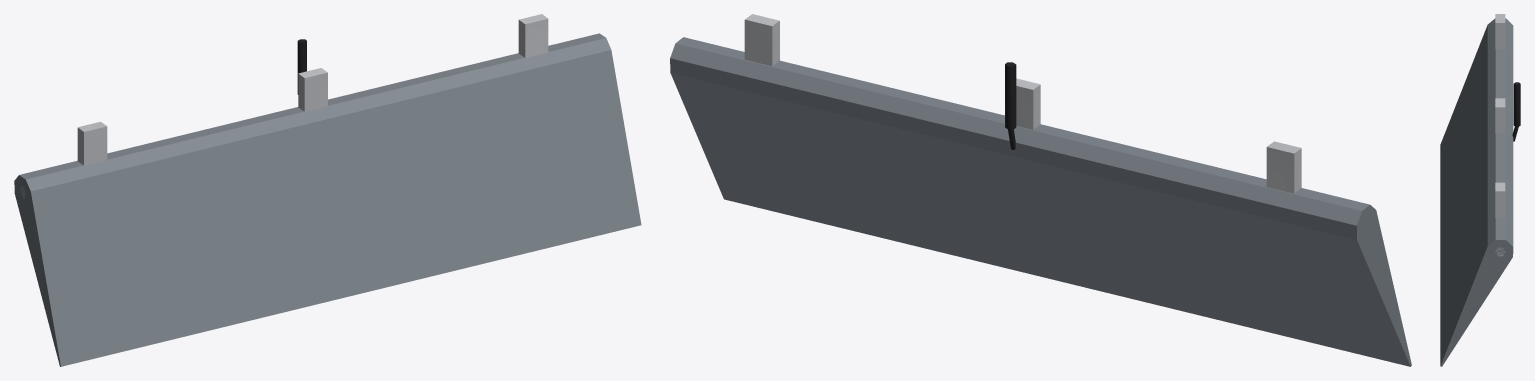
File: jet09_control_surface_elevon_s_defl_neg.glb
3 views of the same model, side by side, from view 1: azimuth 30°, elevation 25°; view 2: azimuth 150°, elevation 25°; view 3: azimuth 270°, elevation 25° (orthographic). The views are drawn at different scales.
Visible parts, largest first — view 1: surface, hinge_fittings; view 2: surface, hinge_fittings, actuator; view 3: surface, hinge_fittings, actuator.
Boxes of the visible parts, x1,y1,x2,y2 form: surface: [14, 33, 641, 366]; hinge_fittings: [20, 14, 548, 198]; surface: [670, 37, 1411, 366]; hinge_fittings: [744, 14, 1301, 193]; actuator: [1005, 62, 1016, 149]; surface: [1440, 18, 1513, 366]; hinge_fittings: [1495, 14, 1505, 256]; actuator: [1512, 82, 1520, 141].
Bounding box in the file's own units: 1.5 × 0.5435 × 0.2288.
Materials: 3 (1 with a texture image).
